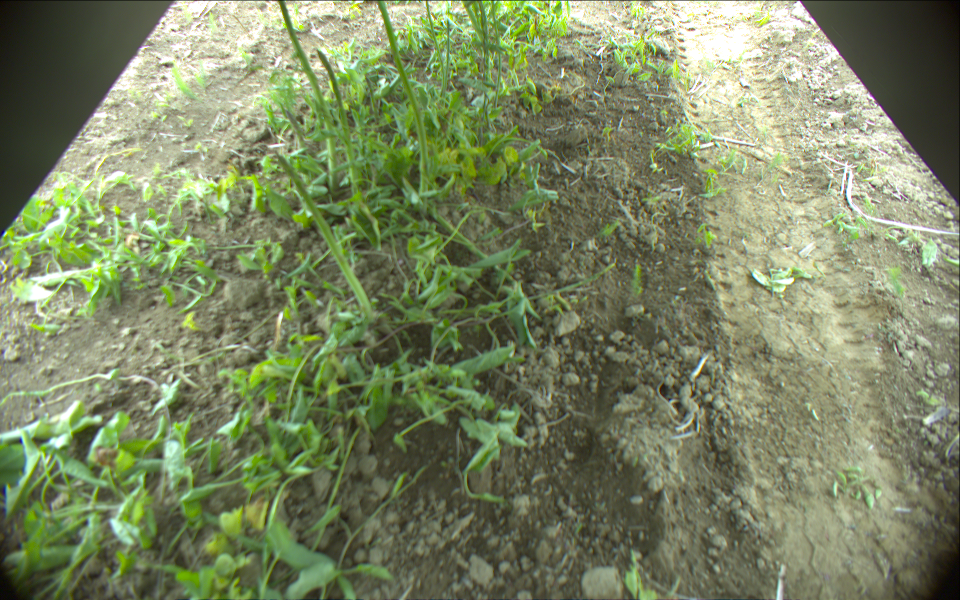aspa: (278, 155, 373, 319), (277, 1, 336, 187), (374, 1, 428, 188), (315, 49, 365, 195), (423, 1, 447, 101)
